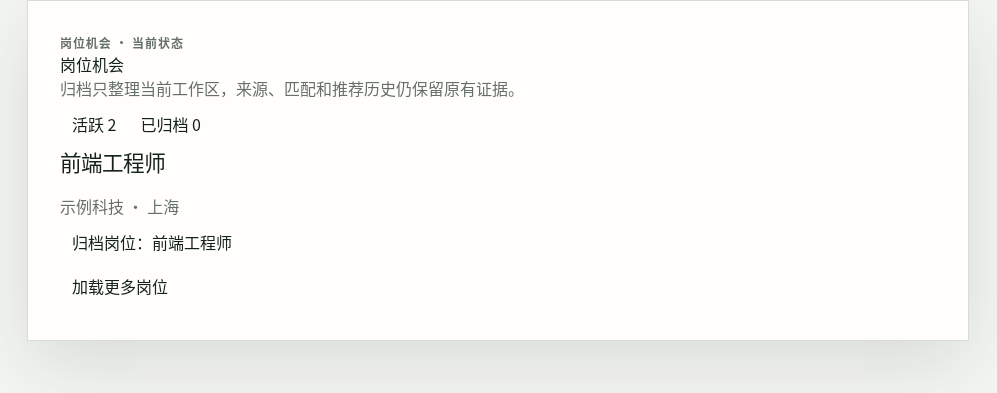
Test: 归档页尾岗位后重载当前筛选以重建游标和计数
The image size is (997, 393).
Step 1. Click the button "归档岗位：前端工程师" → (152, 242), box [60,220,244,264]
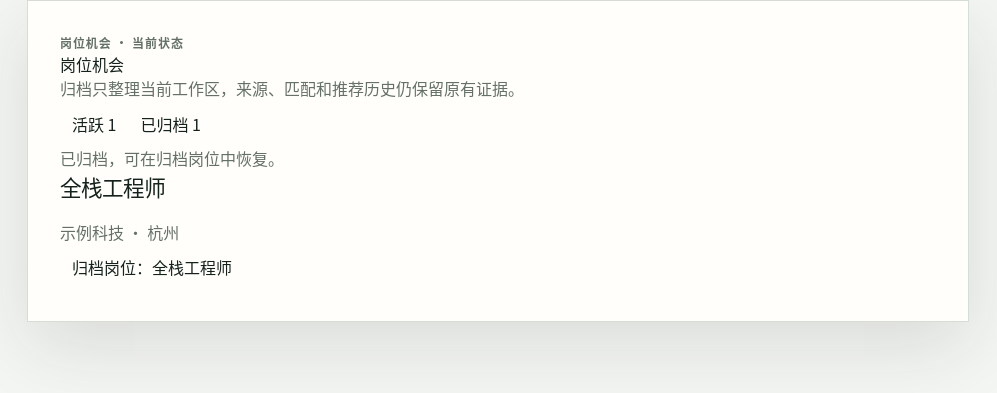
Check: the heading "全栈工程师" is shown, box [60,171,165,202]
Check: the button "加载更多岗位" is gone
